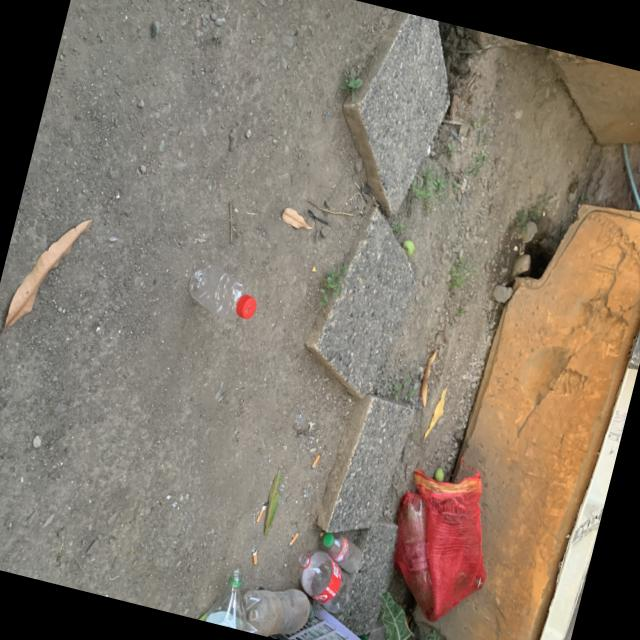Bottle: (188, 264, 256, 319)
